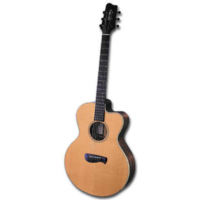guitar: (65, 3, 136, 198)
